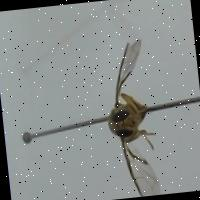Oriental-fruit-fly: (90, 27, 178, 200)
